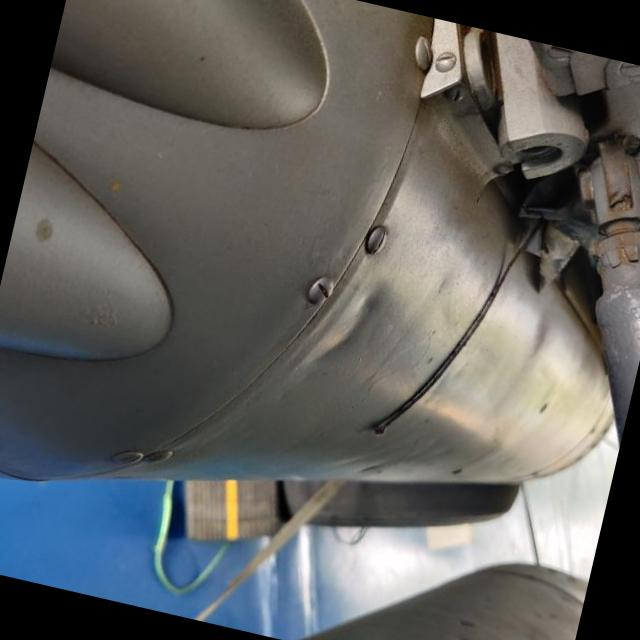Dent: (284, 268, 394, 380)
